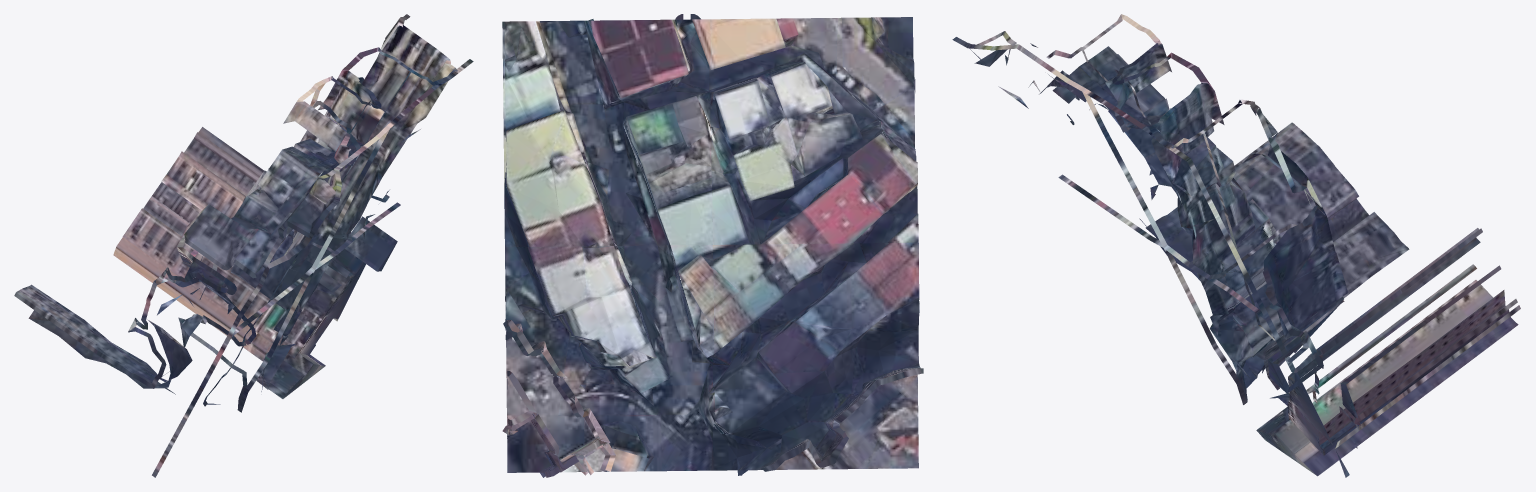
3 views of the same model, side by side, from view 1: azimuth 30°, elevation 25°; view 2: azimuth 150°, elevation 25°; view 3: azimuth 270°, elevation 25° (orthographic). The views are drawn at different scales.
Size of the model in its own units: 92.75 by 77.45 by 99.48.
Materials: 2 (2 with a texture image).
